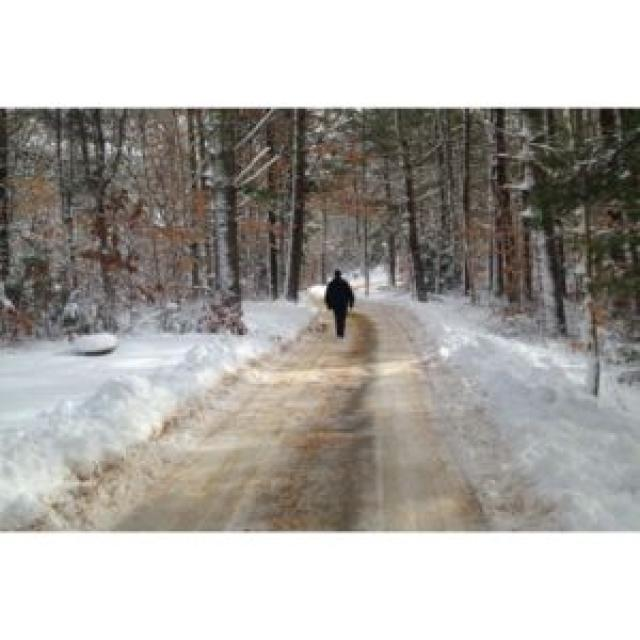nonfall: (312, 259, 376, 346)
